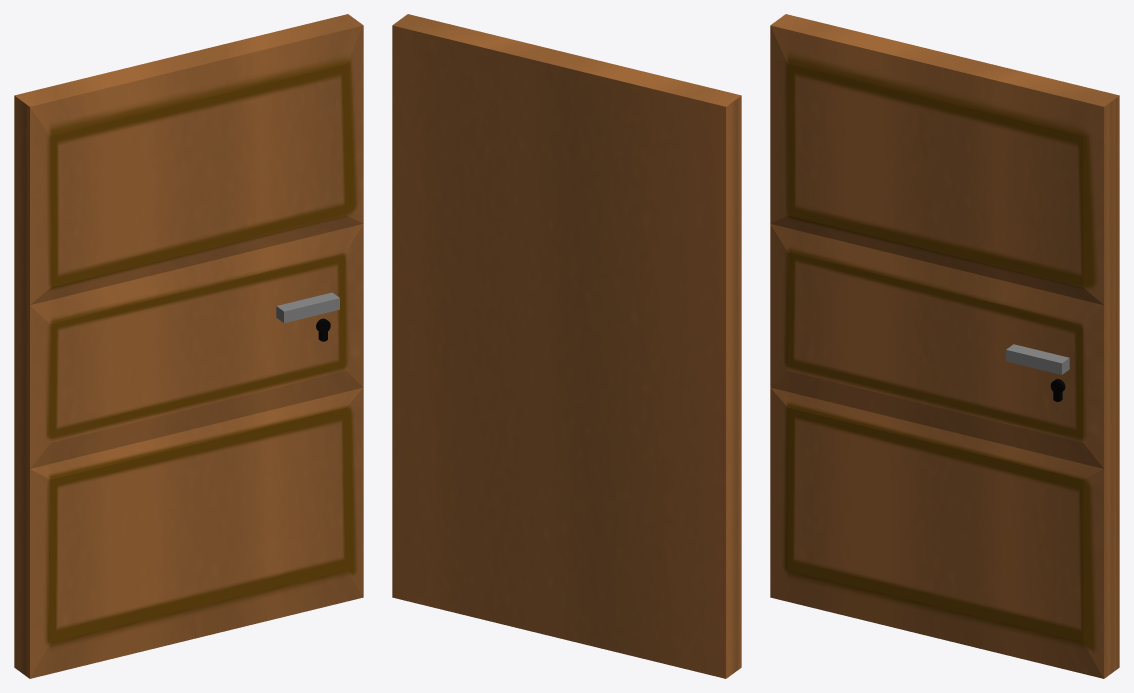
Rendered from Door.fbx.
3 renders of one model, left to right at view 1: azimuth 30°, elevation 25°; view 2: azimuth 150°, elevation 25°; view 3: azimuth 330°, elevation 25°, orthographic.
Visible parts, largest first — view 1: Cube, Cube.001; view 2: Cube; view 3: Cube, Cube.001.
Boxes of the visible parts, <box> form: Cube: <box>14,14,363,678</box>; Cube.001: <box>276,292,339,323</box>; Cube: <box>392,14,741,678</box>; Cube: <box>770,14,1119,678</box>; Cube.001: <box>1006,344,1069,374</box>.
Size of the model in its own units: 454 by 743 by 58.48.
